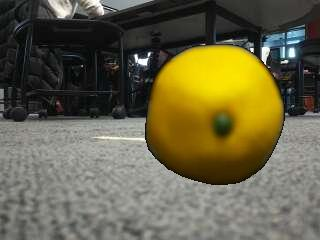lemon: (147, 44, 282, 184)
